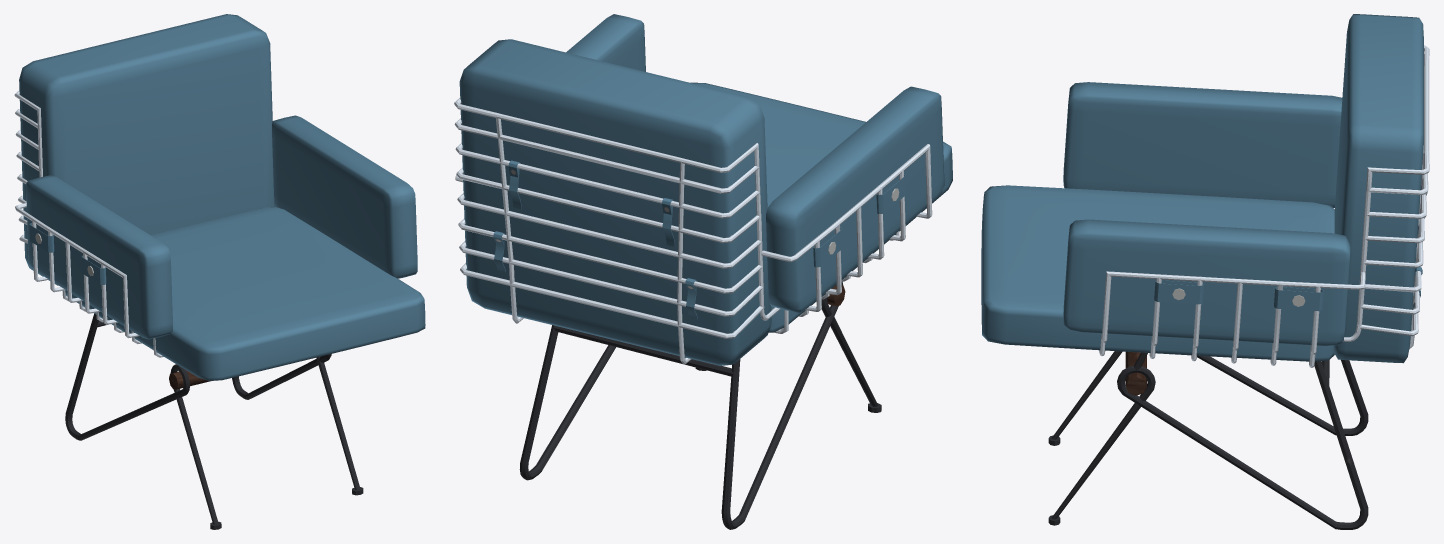
File: LC_3007_Chair_C_LOD3.FBX
The picture shows the model from 3 angles, left to right: view 1: azimuth 30°, elevation 25°; view 2: azimuth 150°, elevation 25°; view 3: azimuth 270°, elevation 25°; orthographic projection. The views are drawn at different scales.
Visible parts, largest first — view 1: LC_3007_Chair_C_LOD3; view 2: LC_3007_Chair_C_LOD3; view 3: LC_3007_Chair_C_LOD3.
Boxes of the visible parts, x1,y1,x2,y2 form: LC_3007_Chair_C_LOD3: (14,14,425,529); LC_3007_Chair_C_LOD3: (454,14,952,529); LC_3007_Chair_C_LOD3: (981,14,1429,529).
Size of the model in its own units: 51.15 by 61.09 by 60.
